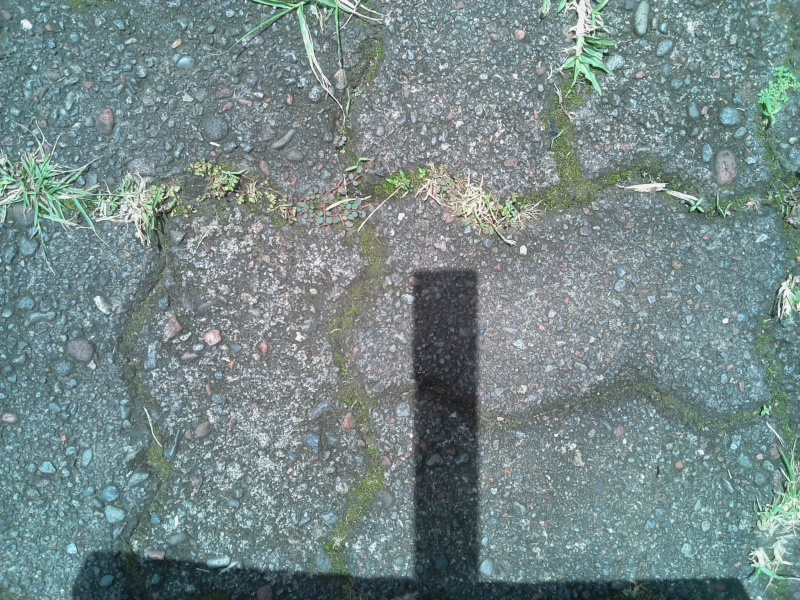Weed: (751, 449, 800, 586), (1, 149, 86, 227), (417, 164, 507, 232), (101, 172, 176, 243), (558, 1, 607, 90), (758, 63, 796, 132), (685, 186, 738, 223), (770, 268, 800, 327), (207, 163, 242, 204)
